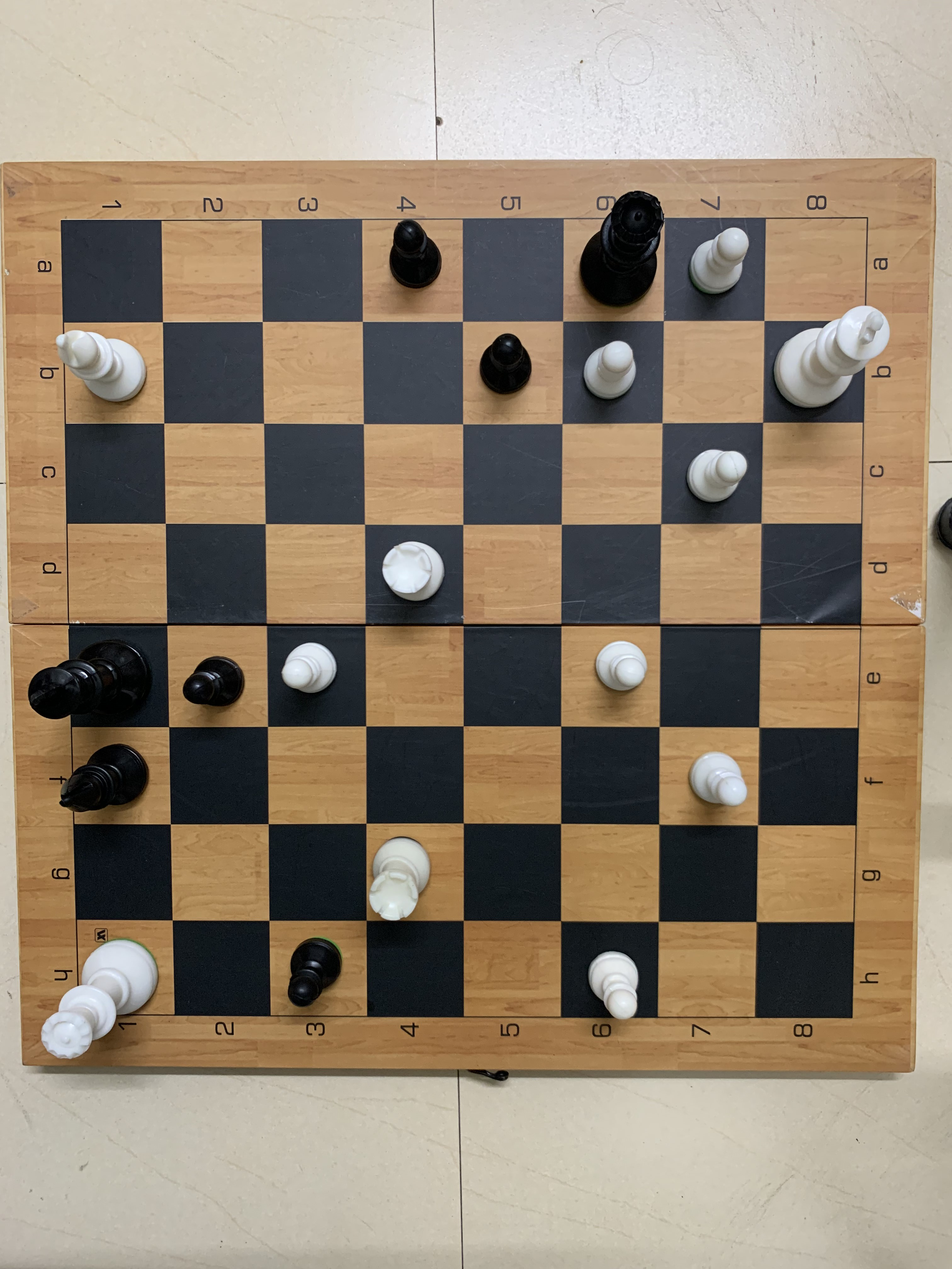black_bishop: (50, 729, 161, 825)
black_king: (25, 631, 154, 731)
black_pawn: (368, 213, 459, 307), (466, 326, 553, 421), (172, 634, 259, 725), (280, 933, 360, 1019)
black_queen: (576, 188, 667, 313)
white_bishop: (46, 324, 162, 419)
white_king: (768, 296, 902, 419)
white_pawn: (565, 927, 654, 1031), (669, 735, 760, 828), (671, 422, 762, 513), (671, 221, 762, 309), (271, 623, 354, 717), (567, 332, 660, 415), (571, 634, 660, 720)
white_queen: (27, 922, 177, 1068)
white_rook: (360, 828, 460, 934), (360, 526, 459, 613)
